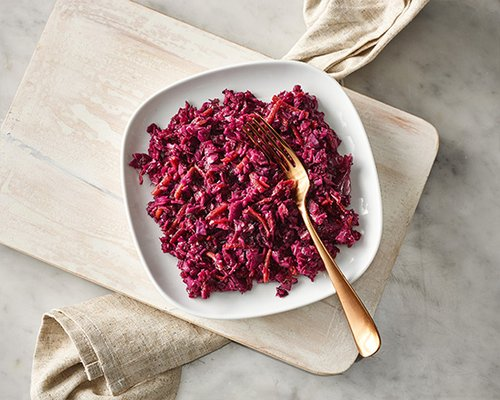curry: (2, 0, 496, 400)
